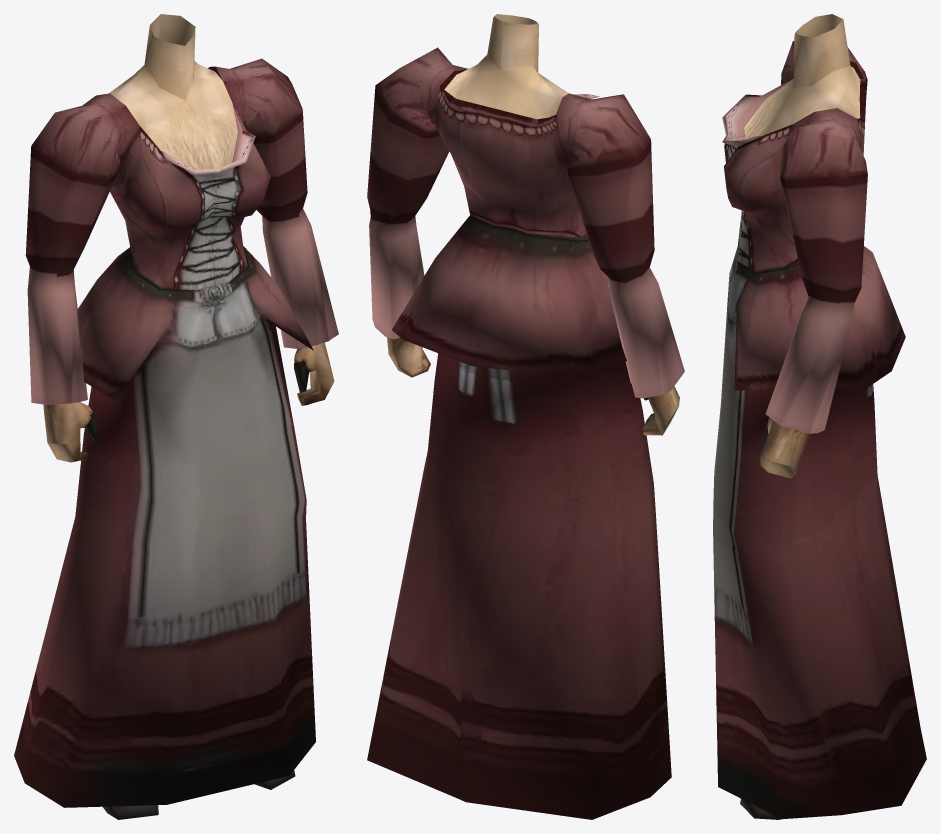
The model's file is ARMOR_BAUBABE_L4.glb.
3 renders of one model, left to right at view 1: azimuth 30°, elevation 25°; view 2: azimuth 150°, elevation 25°; view 3: azimuth 270°, elevation 25°, orthographic.
Visible parts, largest first — view 1: ARMOR_BAUBABE_L4; view 2: ARMOR_BAUBABE_L4; view 3: ARMOR_BAUBABE_L4.
Part boxes in pixels (box(x1,y1,x2,y2)): ARMOR_BAUBABE_L4: box(14, 14, 338, 819); ARMOR_BAUBABE_L4: box(367, 14, 684, 819); ARMOR_BAUBABE_L4: box(713, 14, 926, 819).
Size of the model in its own units: 0.6832 by 1.68 by 0.4292.
2 materials, 2 textured.
